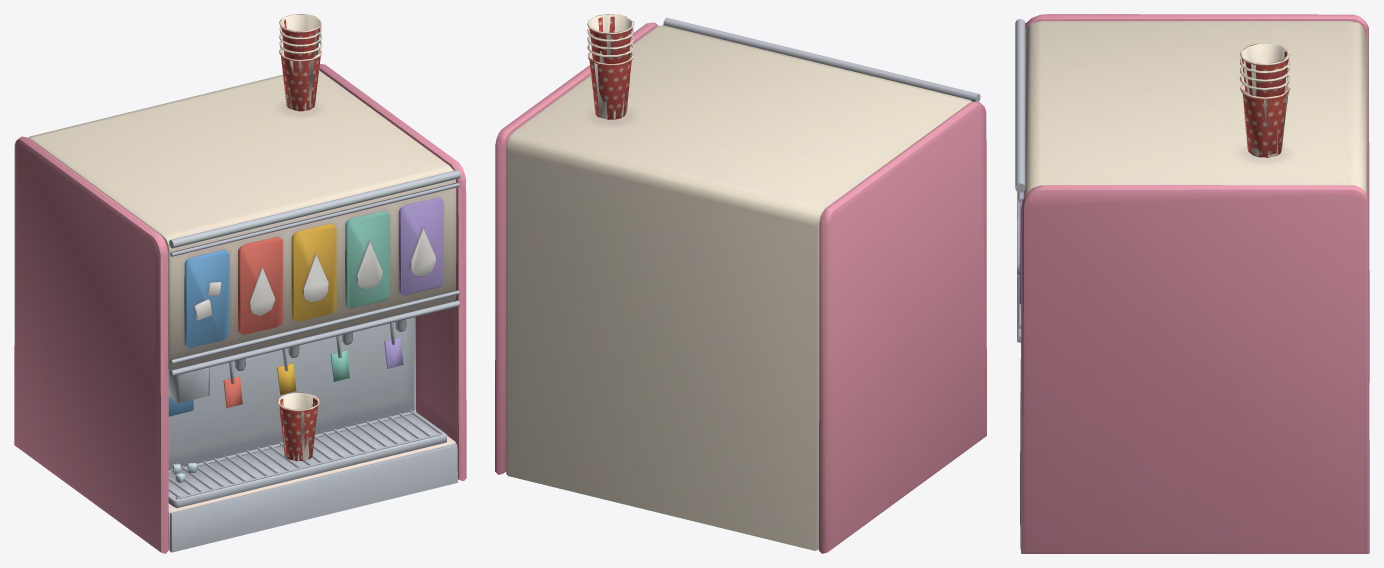
File: g3-soda-fountain-lite.glb
3 renders of one model, left to right at view 1: azimuth 30°, elevation 25°; view 2: azimuth 150°, elevation 25°; view 3: azimuth 270°, elevation 25°, orthographic. The views are drawn at different scales.
Visible parts, largest first — view 1: soda-fountain_body; view 2: soda-fountain_body; view 3: soda-fountain_body.
Boxes of the visible parts, x1=… form: soda-fountain_body: x1=14, y1=14, x2=466, y2=553; soda-fountain_body: x1=495, y1=14, x2=986, y2=553; soda-fountain_body: x1=1015, y1=14, x2=1369, y2=553.
Bounding box in the file's own units: 0.72 × 0.8848 × 0.61.
Materials: 1 (1 with a texture image).
